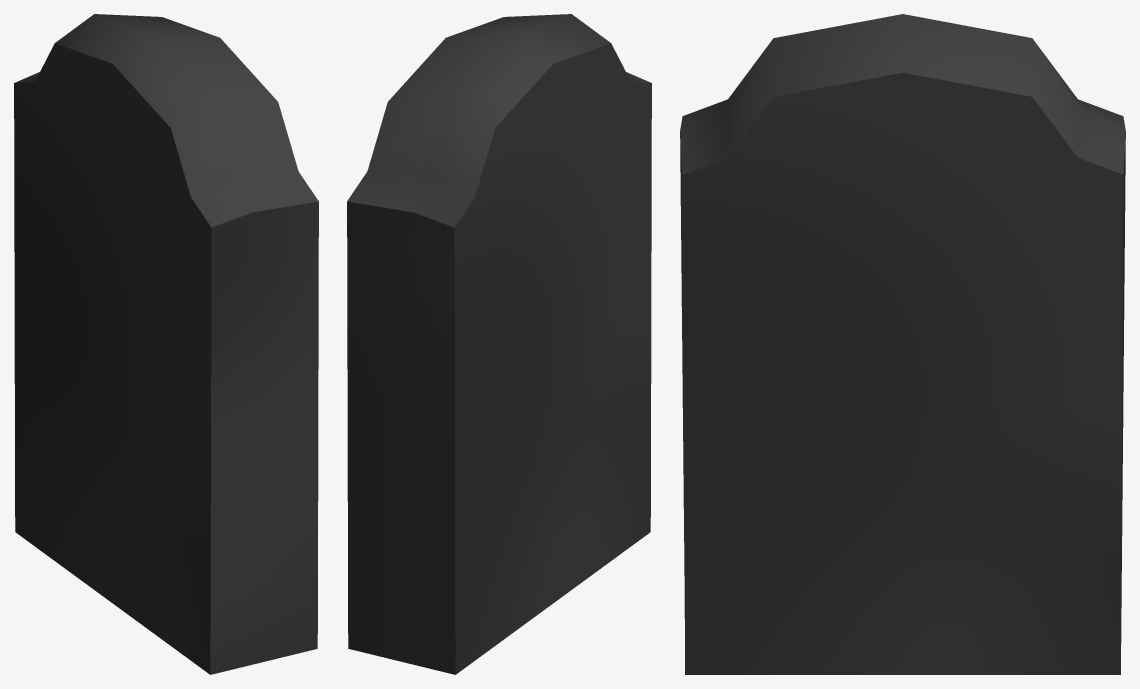
Rendered from SM_Grave.fbx.
3 views of the same model, side by side, from view 1: azimuth 30°, elevation 25°; view 2: azimuth 150°, elevation 25°; view 3: azimuth 270°, elevation 25° (orthographic). The views are drawn at different scales.
Parts seen in each view (by area): view 1: Grave; view 2: Grave; view 3: Grave.
Part boxes in pixels (x1,y1,x2,y2): Grave: [14, 14, 318, 674]; Grave: [347, 14, 651, 674]; Grave: [680, 14, 1125, 674].
Bounding box in the file's own units: 25.07 × 125 × 80.77.
